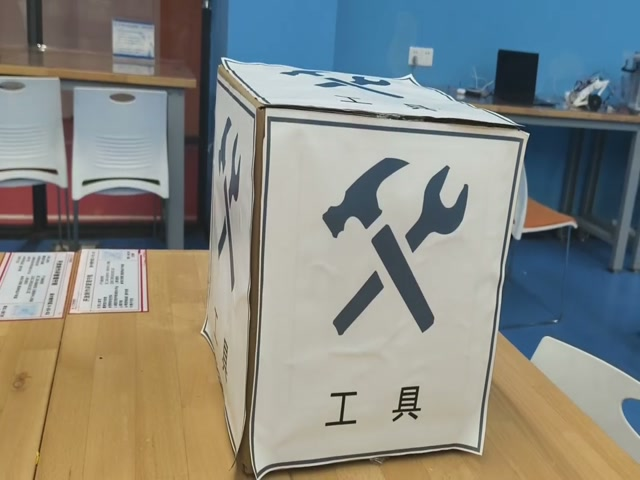Cube_tool: (217, 59, 526, 141)
